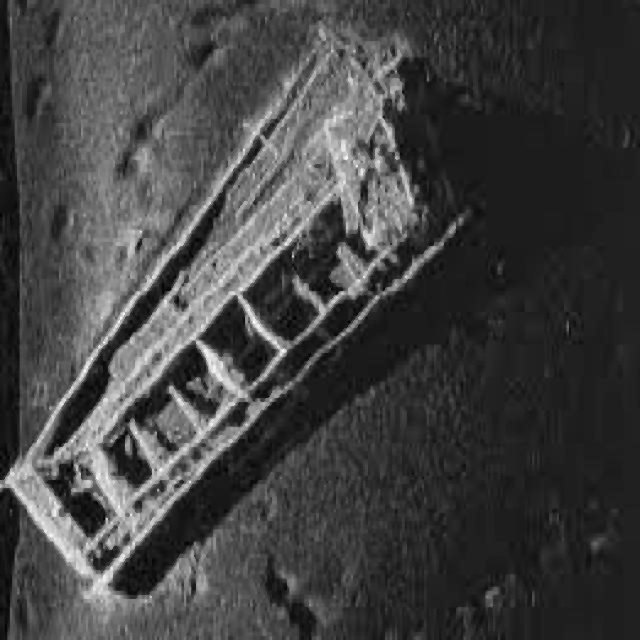Ship: (1, 14, 478, 611)
